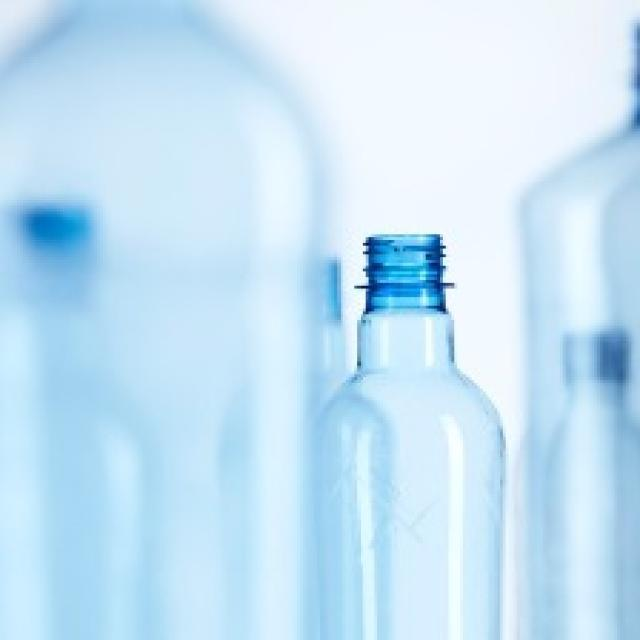plastic_bottle: (340, 226, 508, 640), (336, 325, 510, 640)
